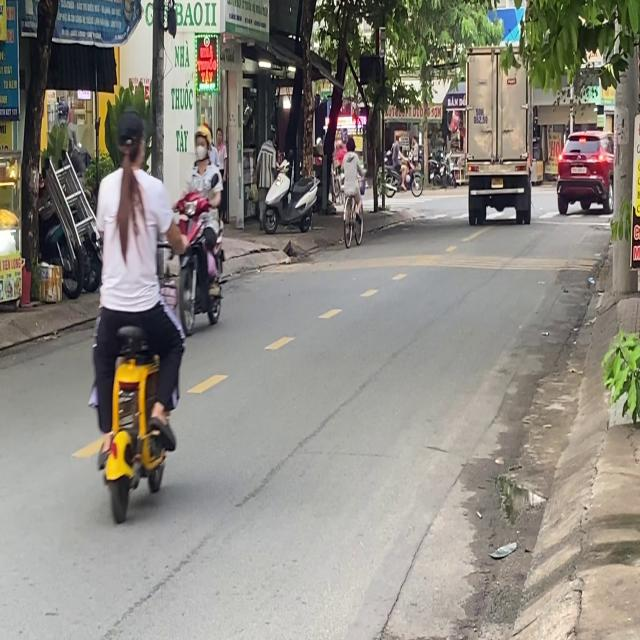helmet: (192, 122, 211, 160)
licenseplate: (84, 104, 189, 520), (171, 121, 228, 333)
motorcyclist: (114, 108, 146, 168)
